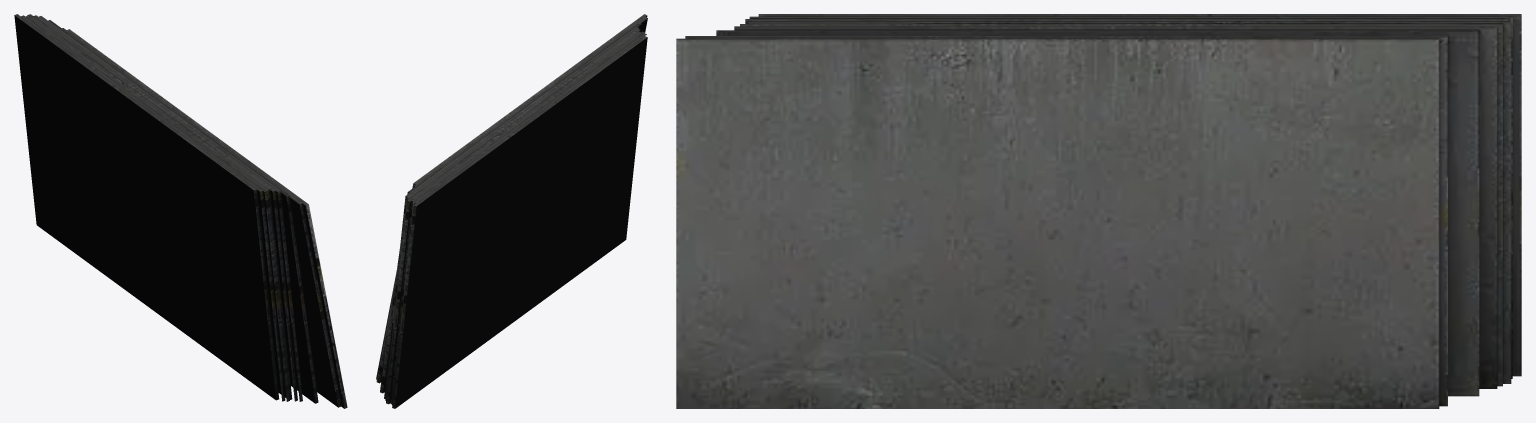
File: sheetrock_leaning.glb
The picture shows the model from 3 angles, left to right: view 1: azimuth 30°, elevation 25°; view 2: azimuth 150°, elevation 25°; view 3: azimuth 270°, elevation 25°; orthographic projection. The views are drawn at different scales.
Visible parts, largest first — view 1: 0_sheetrock_leaning; view 2: 0_sheetrock_leaning; view 3: 0_sheetrock_leaning.
Boxes of the visible parts, left/top/right/bottom form: 0_sheetrock_leaning: left=14, top=14, right=347, bottom=408; 0_sheetrock_leaning: left=376, top=14, right=647, bottom=408; 0_sheetrock_leaning: left=676, top=14, right=1521, bottom=408.
Size of the model in its own units: 0.5324 by 1.62 by 3.6.
1 material, 1 textured.
